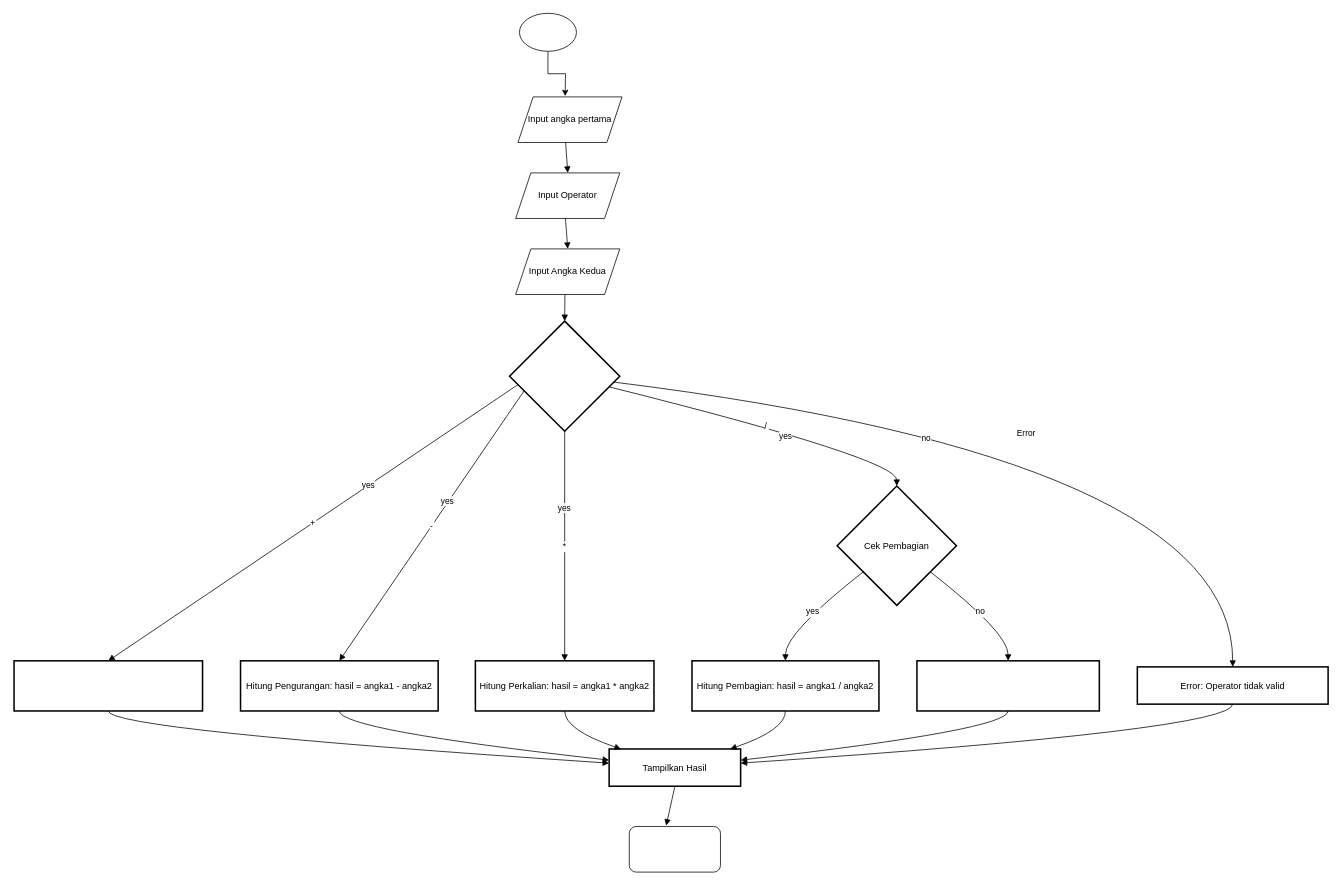
The diagram is 1341 pixels wide and 885 high, and some of its shapes have lost their labels. Each missing label, with the centre of its shape:
"Cek Operator" belongs at (564,376).
"END" belongs at (674,849).
"Error: Pembagian dengan nol tidak diperbolehkan." belongs at (1008,685).
"Hitung Penjumlahan: hasil = angka1 + angka2" belongs at (108,685).
"START" belongs at (547,32).
